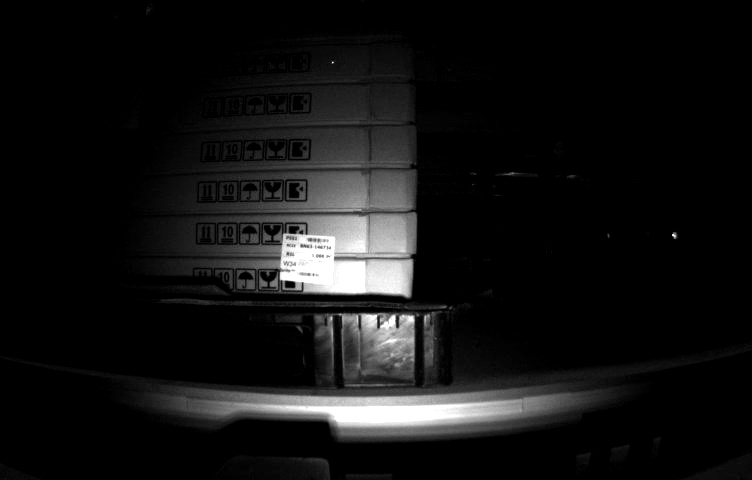True Barcode: (280, 231, 334, 286)
